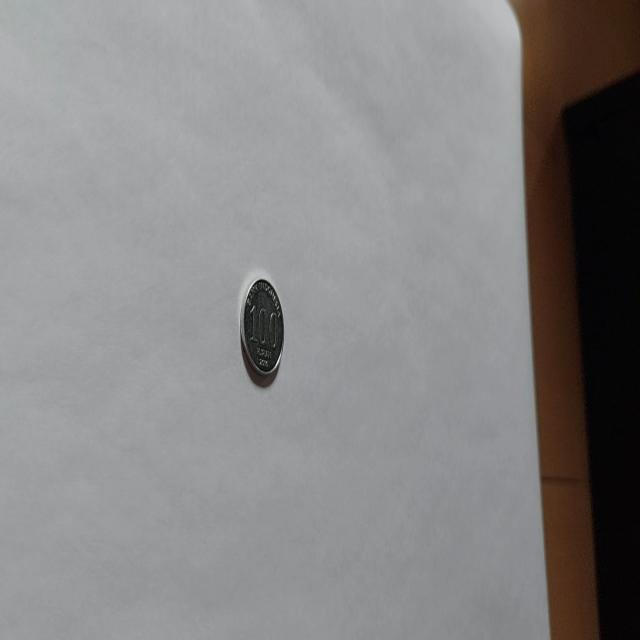seratus rupiah: (239, 276, 285, 380)
